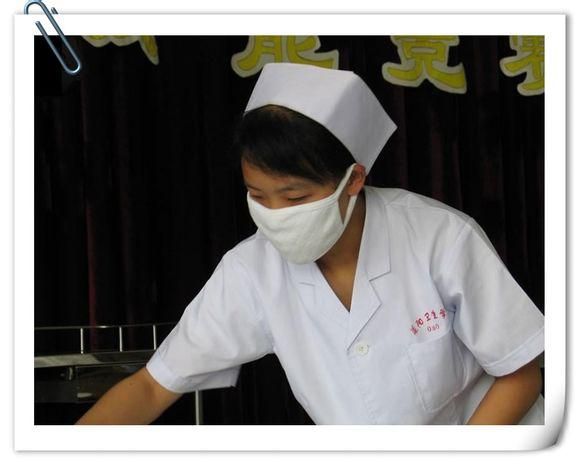OK: (250, 171, 345, 266)
